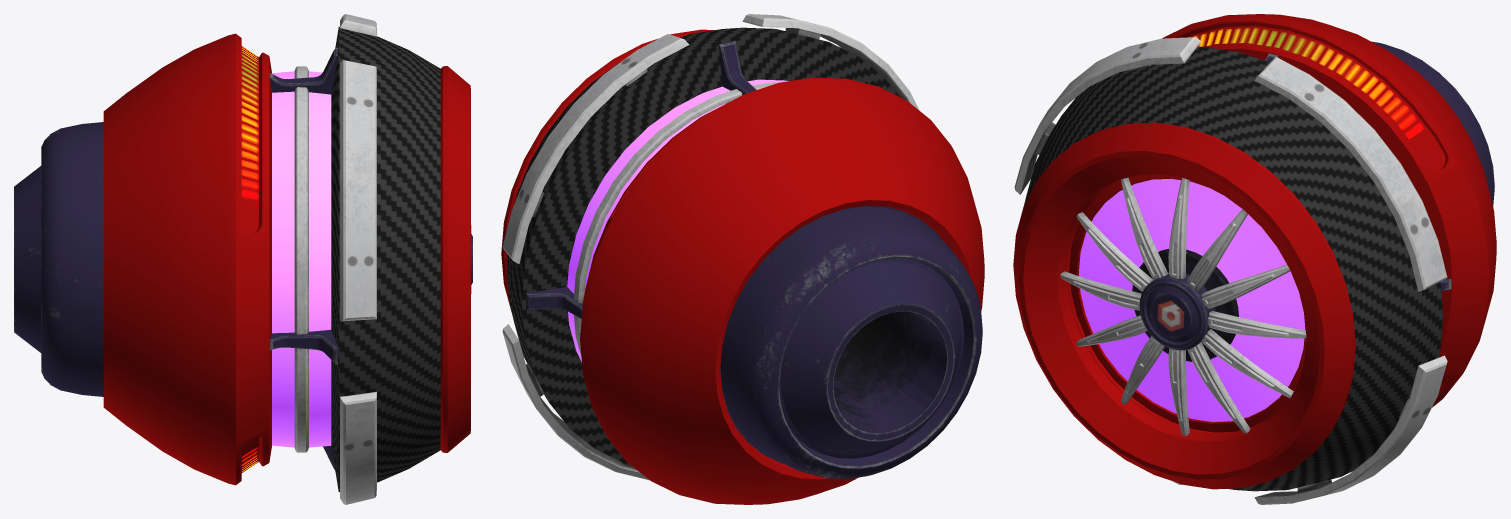
Rendered from BabylonShaderBall_Simple.gltf.
3 renders of one model, left to right at view 1: azimuth 30°, elevation 25°; view 2: azimuth 150°, elevation 25°; view 3: azimuth 270°, elevation 25°, orthographic.
Parts seen in each view (by area): view 1: housing_low, supports_low; view 2: housing_low, supports_low; view 3: housing_low, spokes_low, hub_low.
Boxes of the visible parts, <box> form: housing_low: <box>14,14,470,504</box>; supports_low: <box>269,47,338,469</box>; housing_low: <box>501,14,984,504</box>; supports_low: <box>526,40,756,318</box>; housing_low: <box>1013,14,1496,504</box>; spokes_low: <box>1060,177,1306,435</box>; hub_low: <box>1132,249,1238,361</box>.
Bounding box in the file's own units: 10.97 × 10.21 × 10.1.
Materials: 1 (1 with a texture image).
